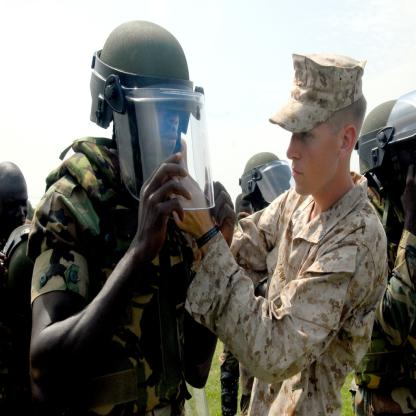Helmet: (85, 32, 200, 183), (352, 90, 416, 208), (238, 148, 292, 204)
